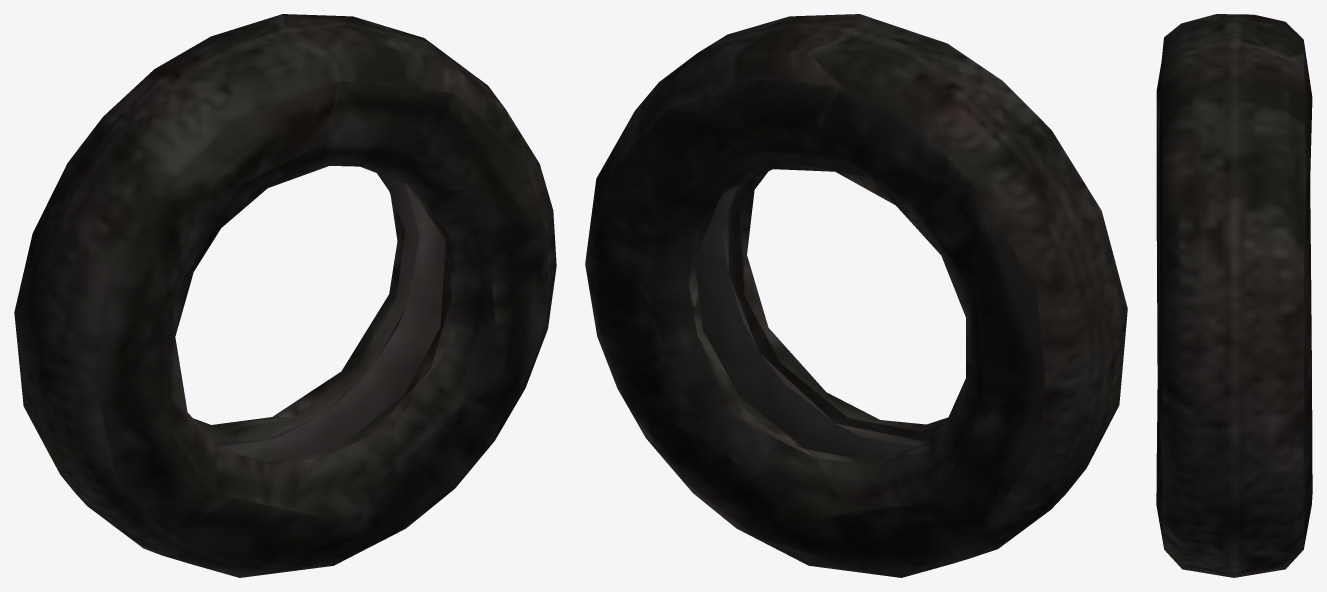
The model's file is tyre_old_lod1.glb.
The picture shows the model from 3 angles, left to right: view 1: azimuth 30°, elevation 25°; view 2: azimuth 150°, elevation 25°; view 3: azimuth 270°, elevation 25°; orthographic projection. The views are drawn at different scales.
Visible parts, largest first — view 1: tyre_old.001; view 2: tyre_old.001; view 3: tyre_old.001.
Boxes of the visible parts, x1,y1,x2,y2 form: tyre_old.001: (14, 14, 556, 577); tyre_old.001: (585, 14, 1127, 577); tyre_old.001: (1156, 14, 1312, 577).
Size of the model in its own units: 0.6024 by 0.6033 by 0.1668.
Materials: 1 (1 with a texture image).
